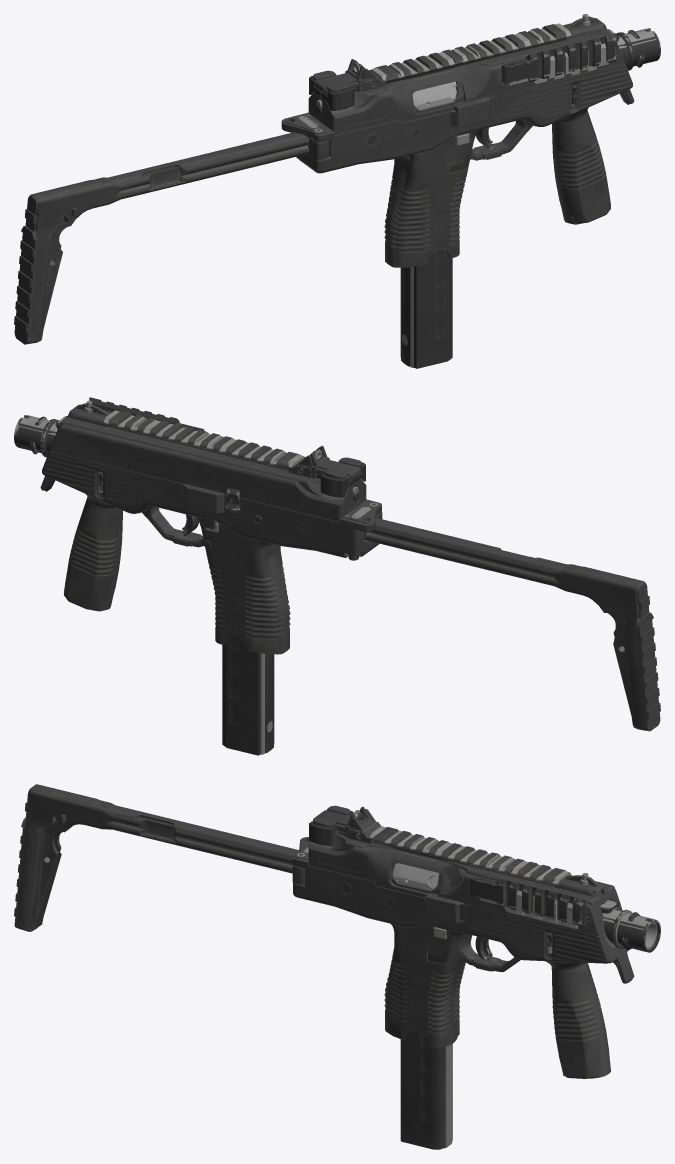
Rendered from weapon_mp9.glb.
The picture shows the model from 3 angles, top to bottom: view 1: azimuth 30°, elevation 25°; view 2: azimuth 150°, elevation 25°; view 3: azimuth 330°, elevation 25°; orthographic projection.
Visible parts, largest first — view 1: weapons/models/mp9/weapon_smg_mp9.vmdl_c.body_hd, weapons/models/mp9/weapon_smg_mp9.vmdl_c.body_legacy; view 2: weapons/models/mp9/weapon_smg_mp9.vmdl_c.body_hd, weapons/models/mp9/weapon_smg_mp9.vmdl_c.body_legacy; view 3: weapons/models/mp9/weapon_smg_mp9.vmdl_c.body_hd, weapons/models/mp9/weapon_smg_mp9.vmdl_c.body_legacy.
Boxes of the visible parts, x1,y1,x2,y2 form: weapons/models/mp9/weapon_smg_mp9.vmdl_c.body_hd: (28, 19, 660, 368); weapons/models/mp9/weapon_smg_mp9.vmdl_c.body_legacy: (14, 14, 656, 367); weapons/models/mp9/weapon_smg_mp9.vmdl_c.body_hd: (14, 397, 646, 755); weapons/models/mp9/weapon_smg_mp9.vmdl_c.body_legacy: (18, 400, 660, 754); weapons/models/mp9/weapon_smg_mp9.vmdl_c.body_hd: (17, 790, 660, 1149); weapons/models/mp9/weapon_smg_mp9.vmdl_c.body_legacy: (14, 784, 657, 1148).
Bounding box in the file's own units: 22.21 × 10.53 × 2.08.
Materials: 2 (2 with a texture image).
